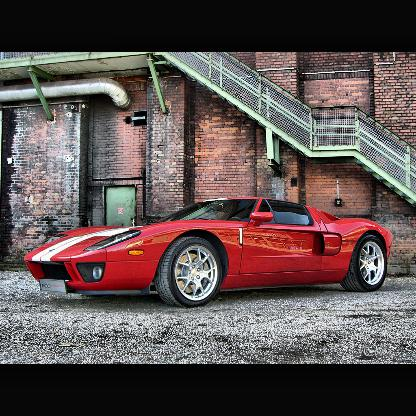Ford GT Coupe 2006: (25, 196, 394, 310)
